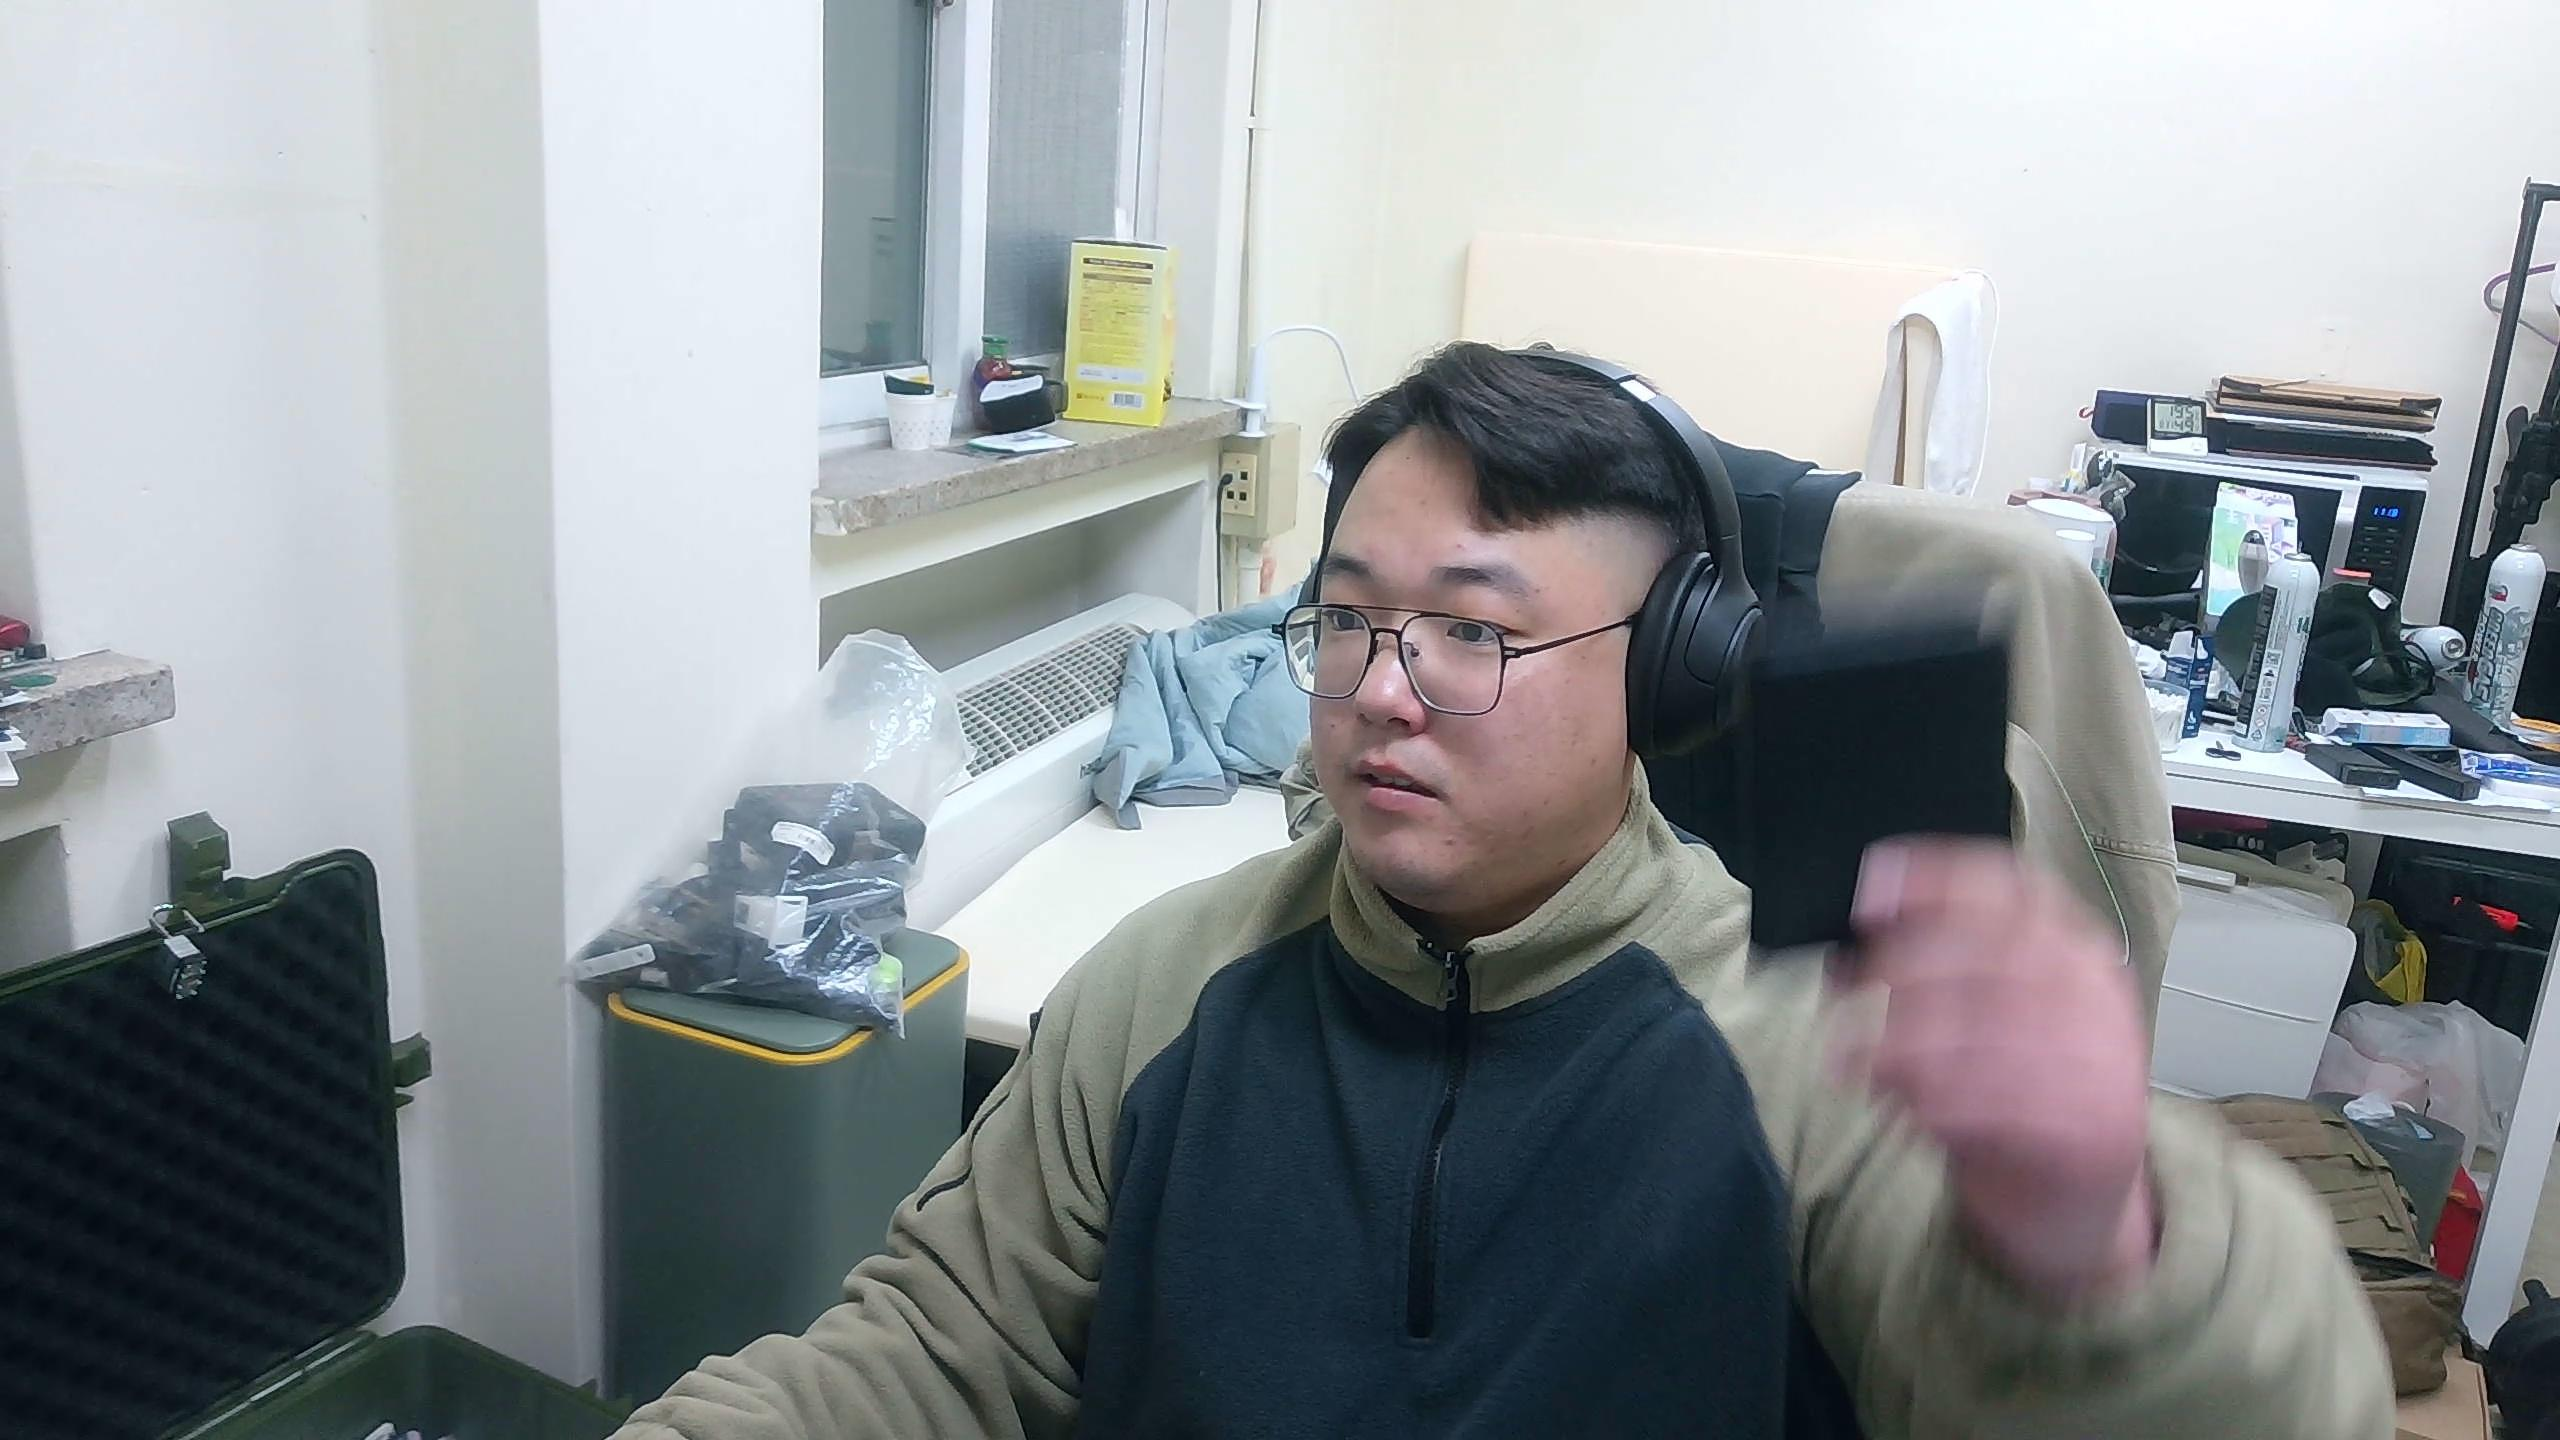earphone: (2, 811, 417, 1438)
